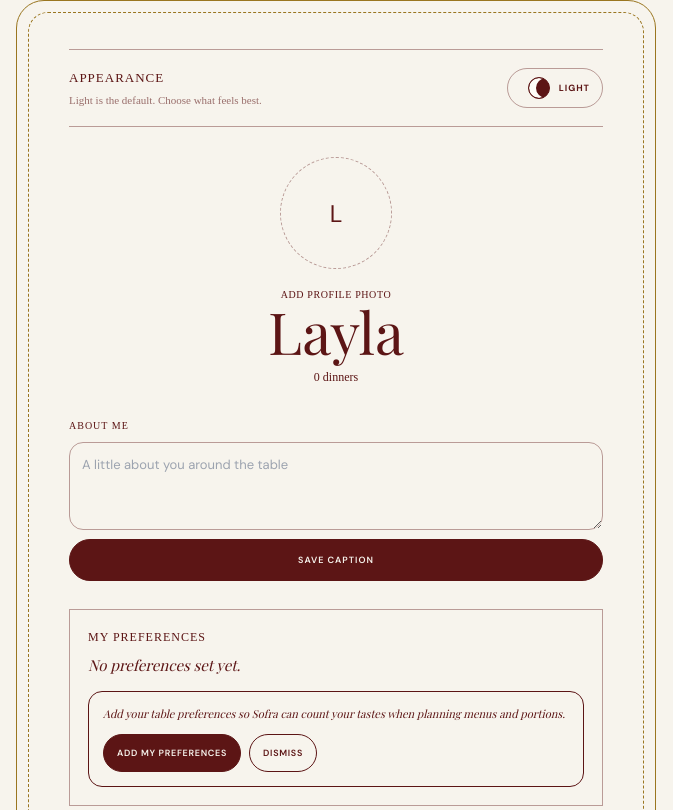
Test: locks a saved caption until Edit caption is pressed
Type "Always brings dessert." into the text box labelled "About me" at (336, 486), box x1=69 y1=442 x2=603 y2=530
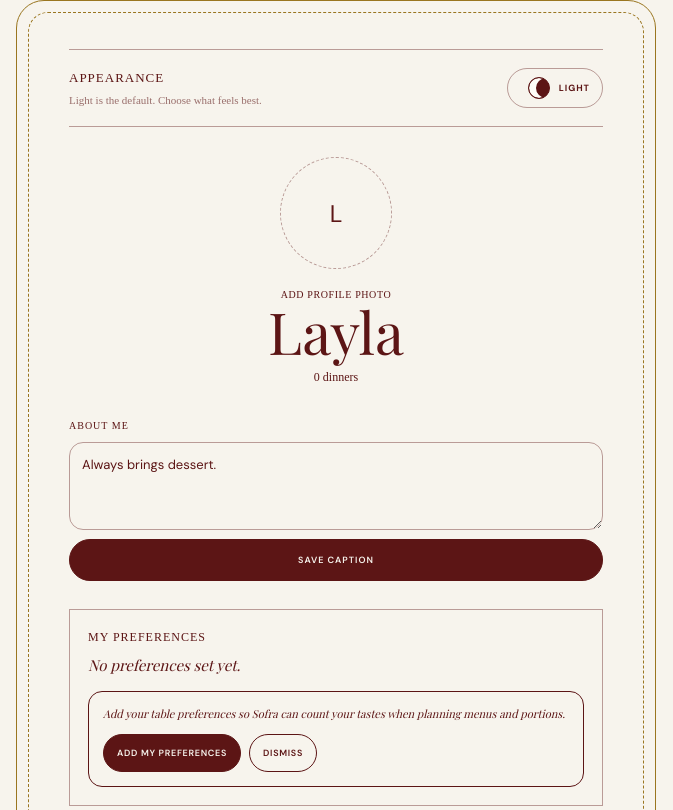
Click the button "SAVE CAPTION" at (336, 560), box x1=69 y1=539 x2=603 y2=581
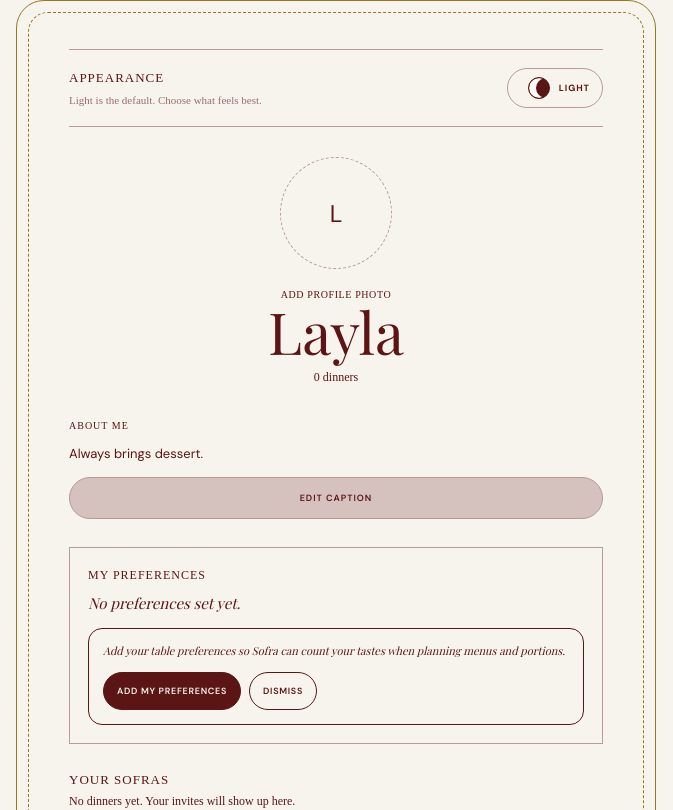
Check: the button "EDIT CAPTION" is shown
Click the button "EDIT CAPTION" at (336, 498), box x1=69 y1=476 x2=603 y2=518
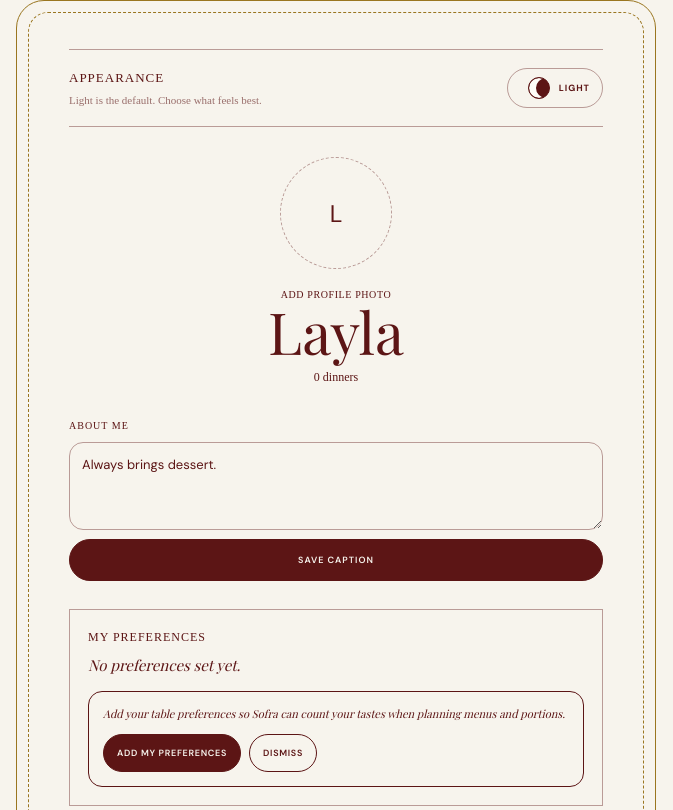
Check: the text box labelled "About me" holds "Always brings dessert.", box x1=69 y1=442 x2=603 y2=530
Check: the button "SAVE CAPTION" is shown, box x1=69 y1=539 x2=603 y2=581
